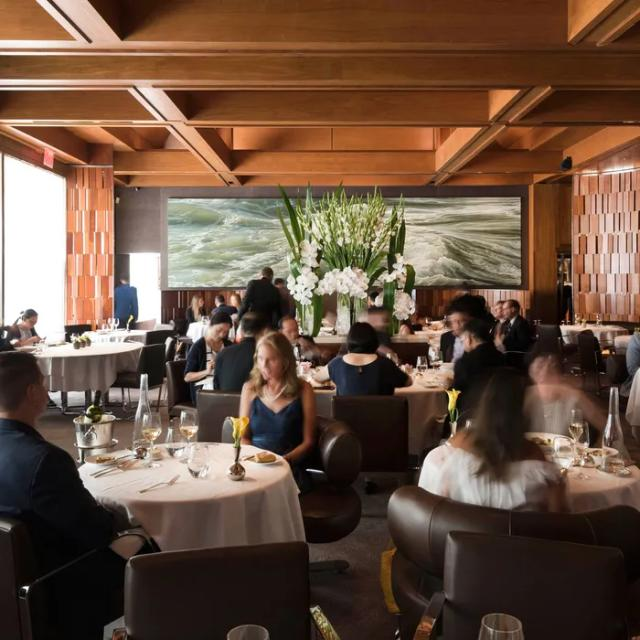person: (0, 351, 159, 614), (232, 332, 356, 472), (314, 315, 444, 414), (194, 313, 274, 402), (6, 300, 72, 354), (500, 286, 535, 360)
